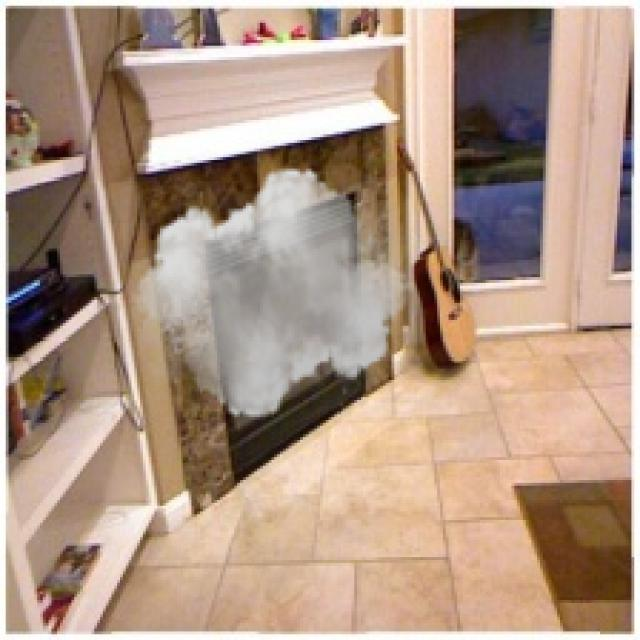smoke: (132, 157, 414, 429)
